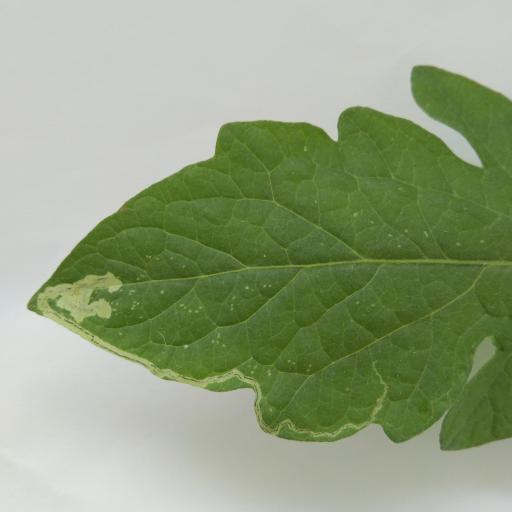disease_tomato: (24, 63, 512, 451)
